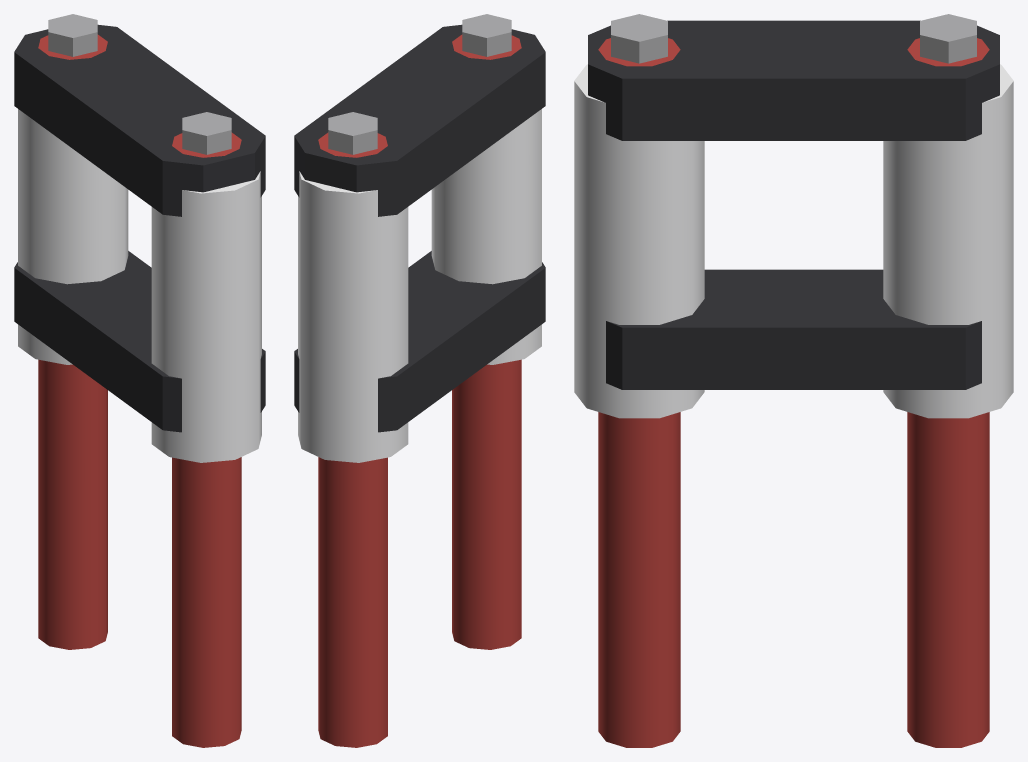
Rendered from shrouded_classic_fork_upper_lod1.glb.
3 renders of one model, left to right at view 1: azimuth 30°, elevation 25°; view 2: azimuth 150°, elevation 25°; view 3: azimuth 270°, elevation 25°, orthographic. The views are drawn at different scales.
Parts seen in each view (by area): view 1: shrouded_classic_fork_upper_lod1; view 2: shrouded_classic_fork_upper_lod1; view 3: shrouded_classic_fork_upper_lod1.
Part boxes in pixels (<box>): shrouded_classic_fork_upper_lod1: <box>14,14,265,747</box>; shrouded_classic_fork_upper_lod1: <box>294,14,545,747</box>; shrouded_classic_fork_upper_lod1: <box>574,14,1013,747</box>.
Bounding box in the file's own units: 0.08 × 0.452 × 0.256.
